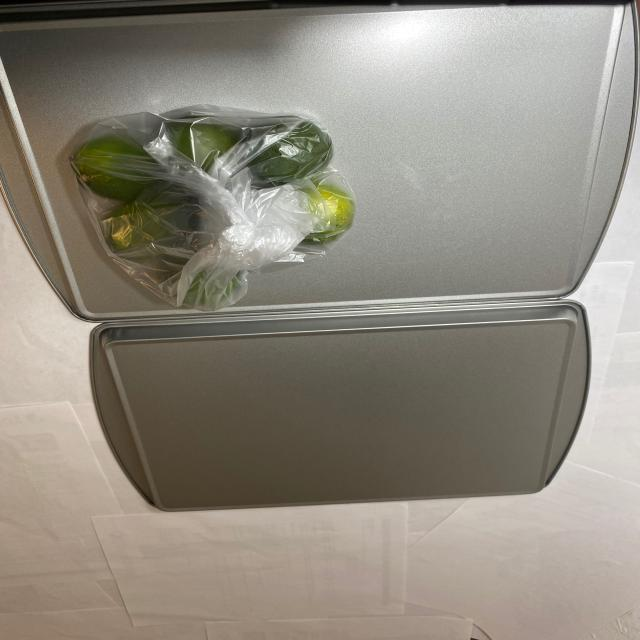lemon: (64, 117, 363, 310)
